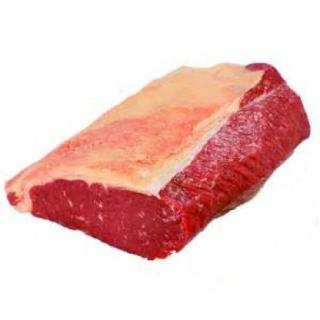Daging Sapi: (10, 64, 313, 261)
